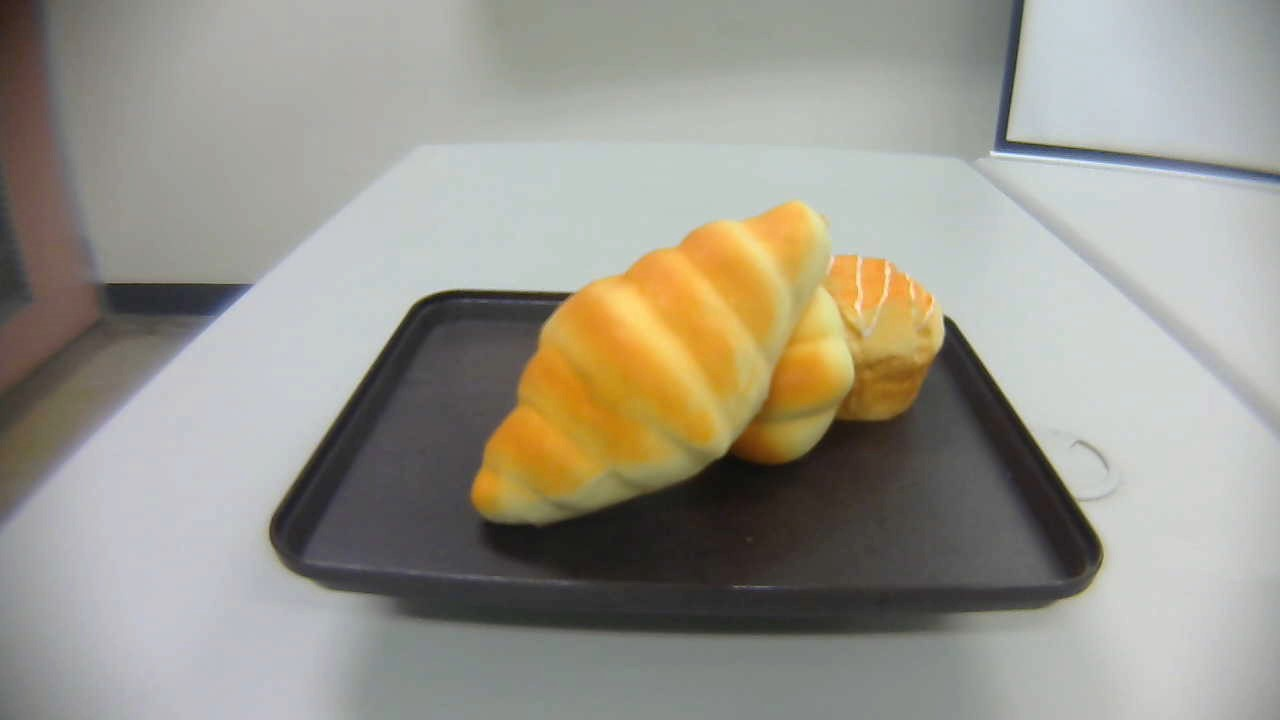croissant: (468, 199, 833, 529)
cupcake: (825, 256, 945, 417)
twist bread: (727, 280, 855, 466)
